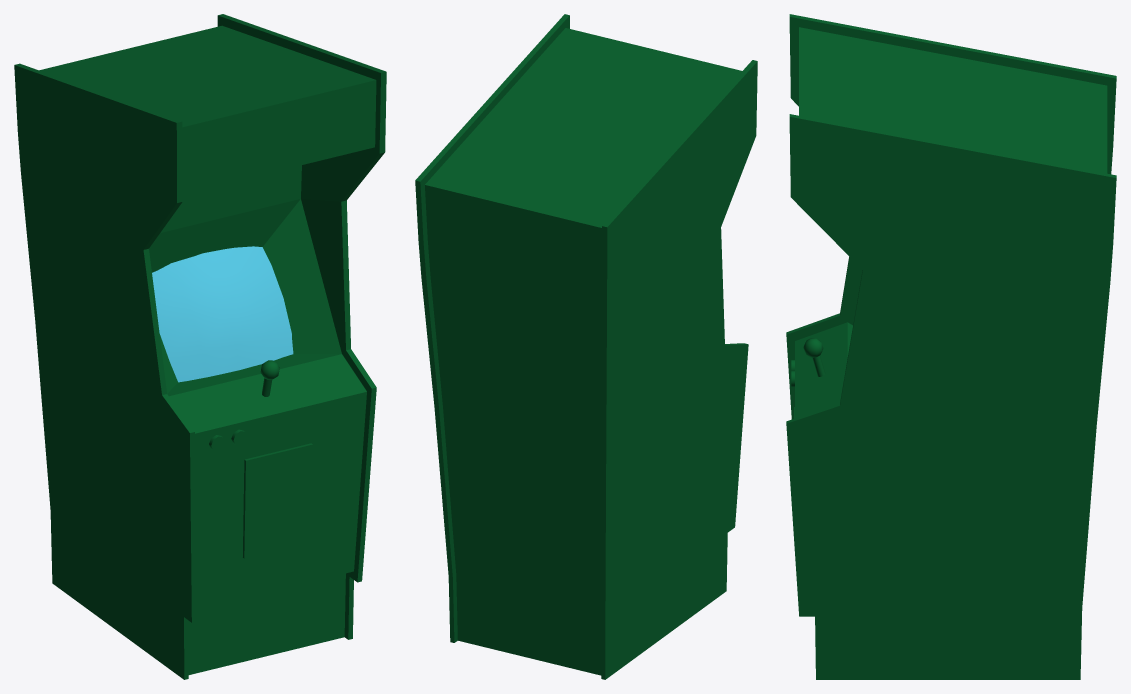
The model's file is arcade_gh.fbx.
The picture shows the model from 3 angles, left to right: view 1: azimuth 30°, elevation 25°; view 2: azimuth 150°, elevation 25°; view 3: azimuth 270°, elevation 25°; orthographic projection. The views are drawn at different scales.
Parts seen in each view (by area): view 1: Arcade_GH, Screen_Plane; view 2: Arcade_GH; view 3: Arcade_GH.
Boxes of the visible parts, box(x1,y1,x2,y2) form: Arcade_GH: box(14, 14, 386, 679); Screen_Plane: box(152, 246, 293, 382); Arcade_GH: box(415, 14, 757, 679); Arcade_GH: box(786, 14, 1116, 679).
Bounding box in the file's own units: 0.8183 × 2.13 × 1.11.
